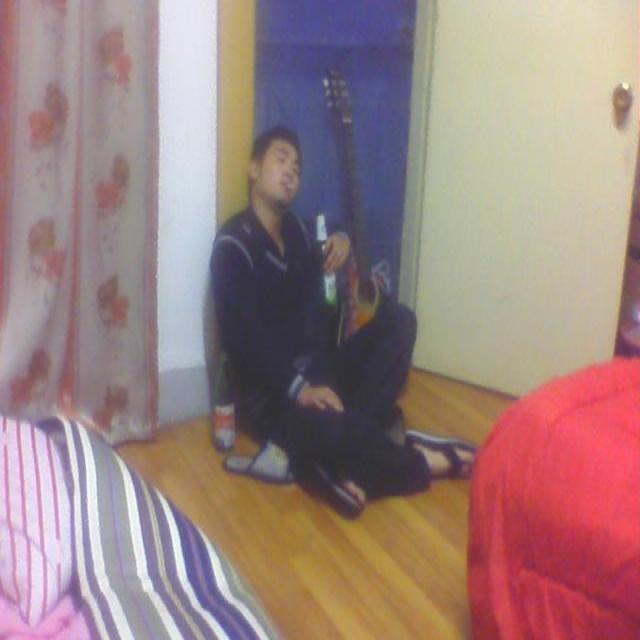guitar: (318, 58, 396, 350)
